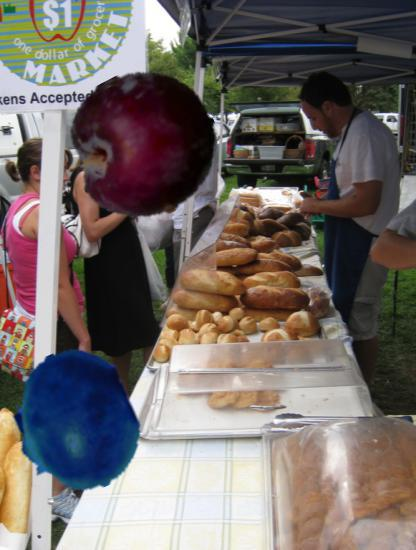Huckleberry: (3, 351, 146, 494)
Plum: (70, 71, 217, 218)
